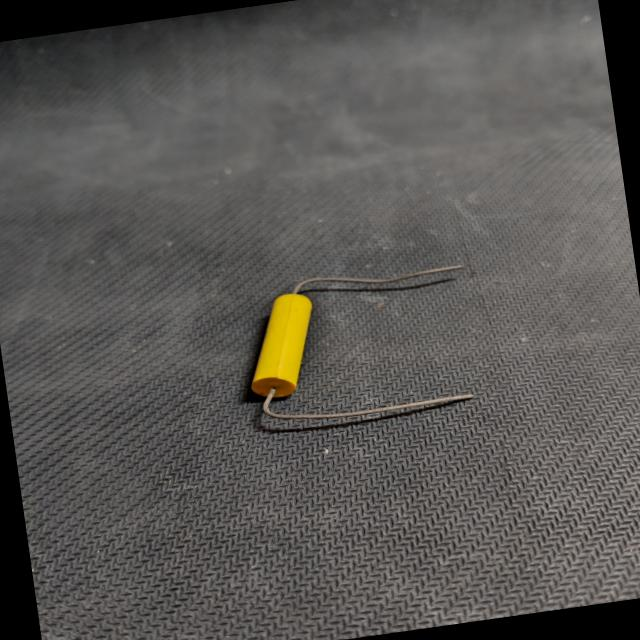capacitor: (221, 245, 495, 446)
